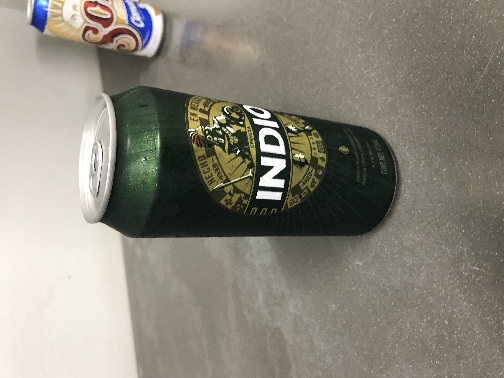IL: (58, 60, 290, 175)
